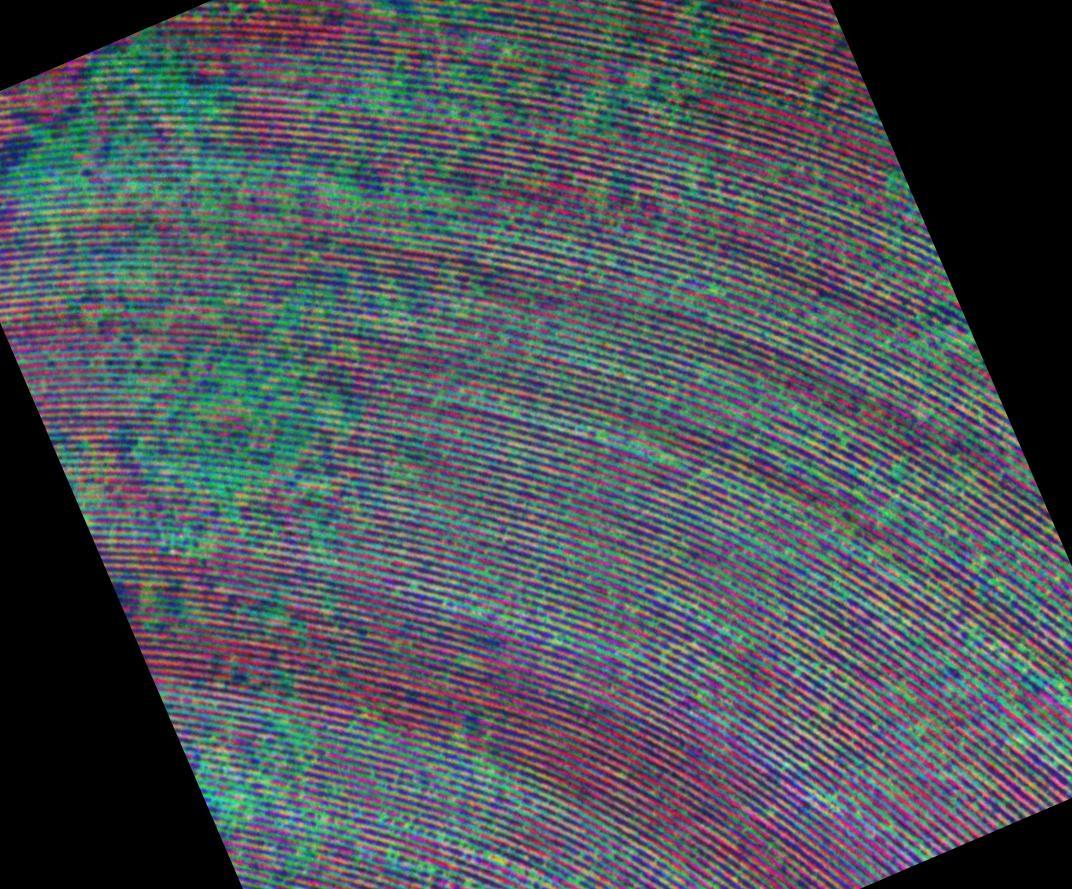dc: (341, 53, 443, 128), (143, 63, 216, 145), (618, 55, 687, 136), (23, 138, 85, 208), (176, 440, 237, 500), (198, 745, 249, 808)
